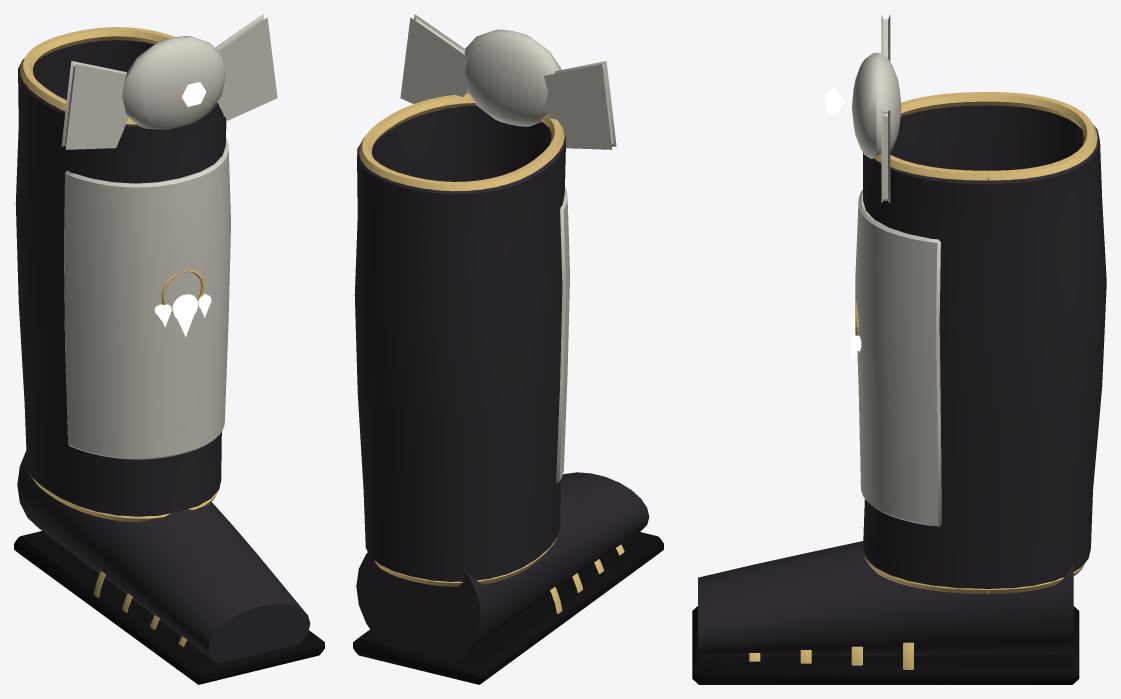
Rendered from asc_sanctified_shade_boots.glb.
3 views of the same model, side by side, from view 1: azimuth 30°, elevation 25°; view 2: azimuth 150°, elevation 25°; view 3: azimuth 270°, elevation 25° (orthographic). The views are drawn at different scales.
Visible parts, largest first — view 1: asc_sanctified_shade_boots, AT_foot_L; view 2: asc_sanctified_shade_boots, AT_foot_L; view 3: asc_sanctified_shade_boots, AT_foot_L.
Boxes of the visible parts, bbox=[...] form: asc_sanctified_shade_boots: bbox=[15, 14, 277, 522]; AT_foot_L: bbox=[14, 451, 324, 684]; asc_sanctified_shade_boots: bbox=[354, 14, 616, 586]; AT_foot_L: bbox=[353, 472, 663, 684]; asc_sanctified_shade_boots: bbox=[825, 14, 1106, 593]; AT_foot_L: bbox=[692, 541, 1079, 684].
Size of the model in its own units: 0.2244 by 0.5768 by 0.3641.
